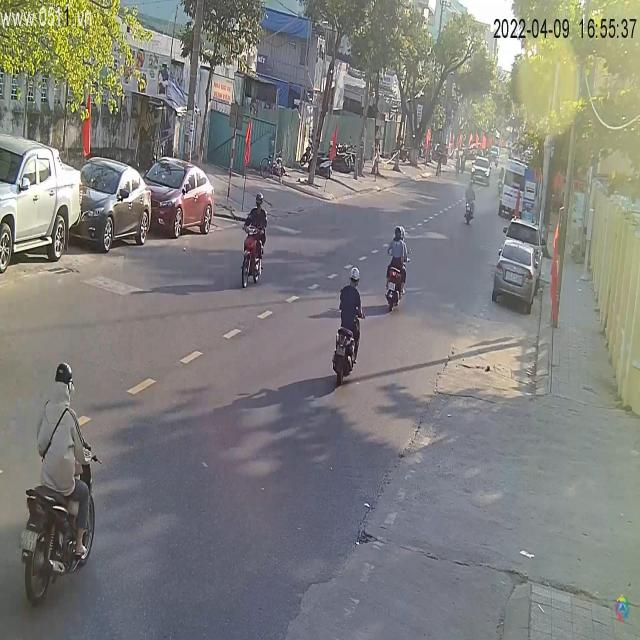car: (1, 133, 83, 276), (74, 158, 156, 253), (141, 156, 216, 240), (493, 228, 543, 314), (498, 159, 540, 220), (469, 155, 491, 186)
motorcycle: (18, 431, 100, 618), (330, 306, 363, 392), (235, 212, 267, 285), (386, 262, 408, 312)
